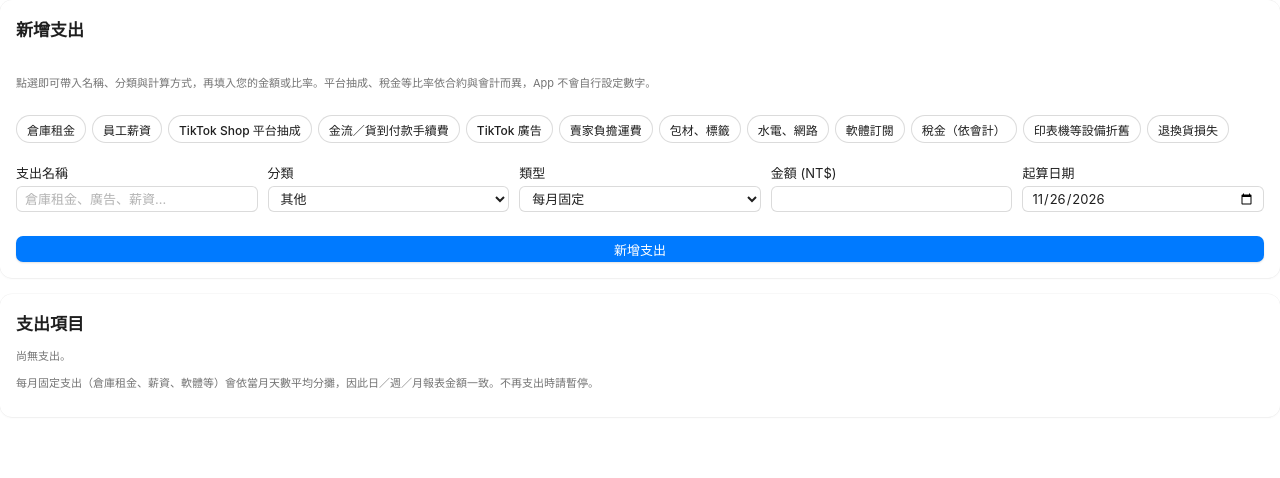
Test: ExpensesPage › rejects an expense without a name
Type "5000" into the field labelled "金額 (NT$)" at x=892, y=199, box [771, 186, 1012, 212]
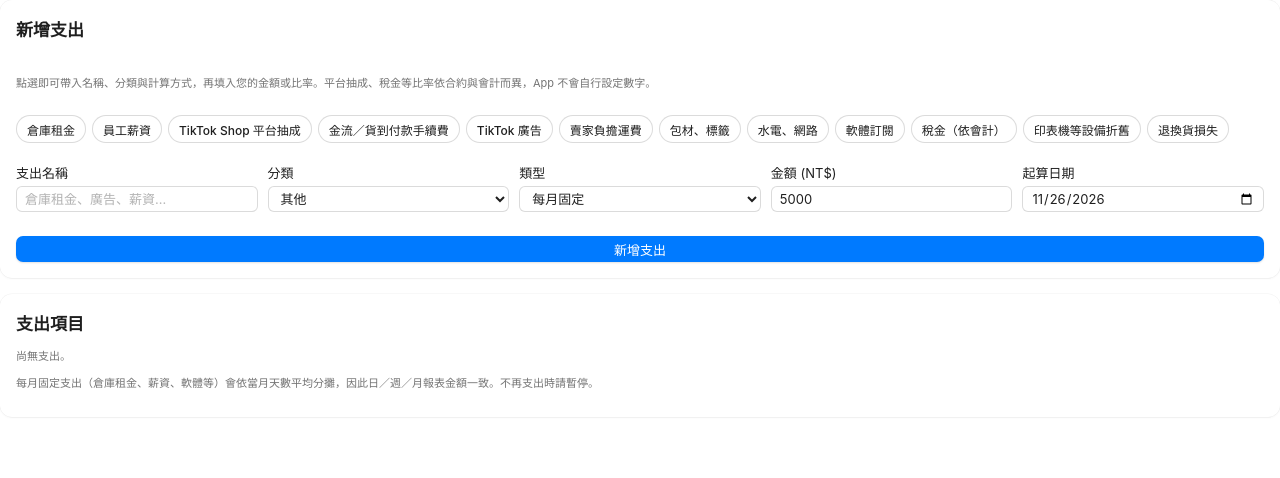
Click the button "新增支出" at x=640, y=249, box [16, 236, 1264, 262]
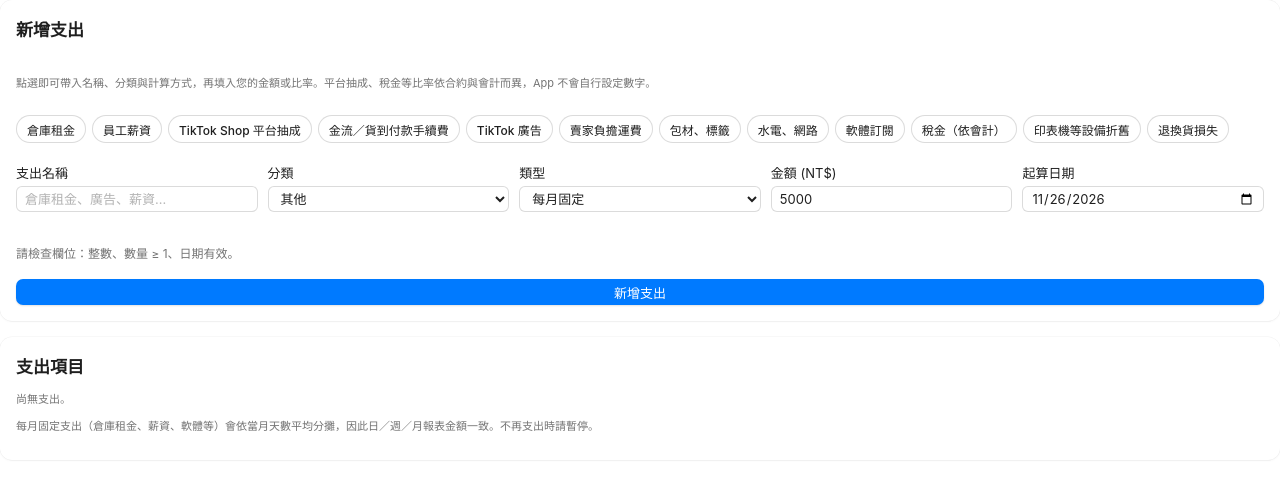
expect the message "請檢查欄位：整數、數量 ≥ 1、日期有效。" is shown: met, box [16, 246, 240, 261]
